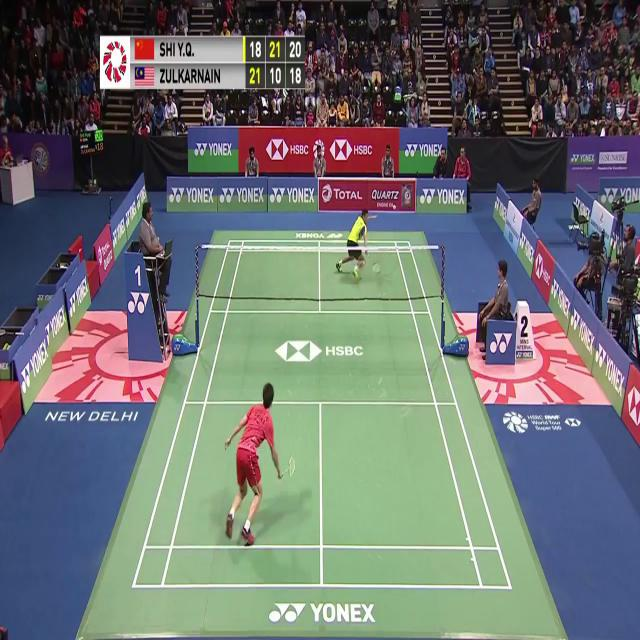Shuttlecock: (391, 201, 397, 213)
